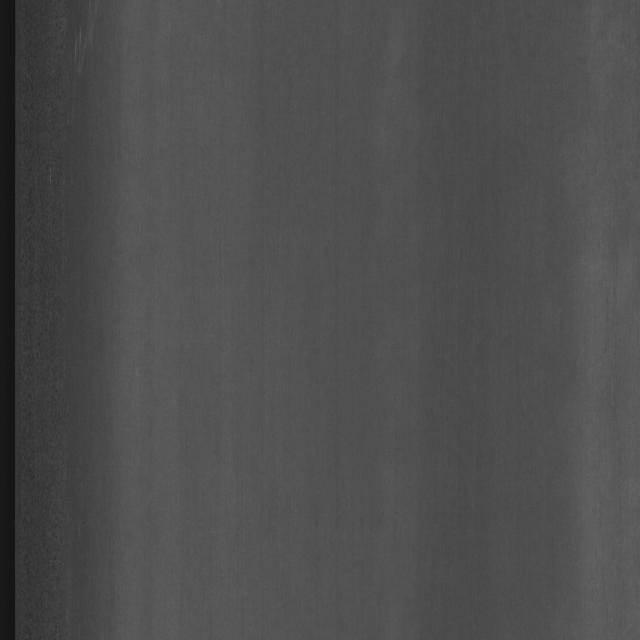inclusion: (34, 22, 114, 220)
